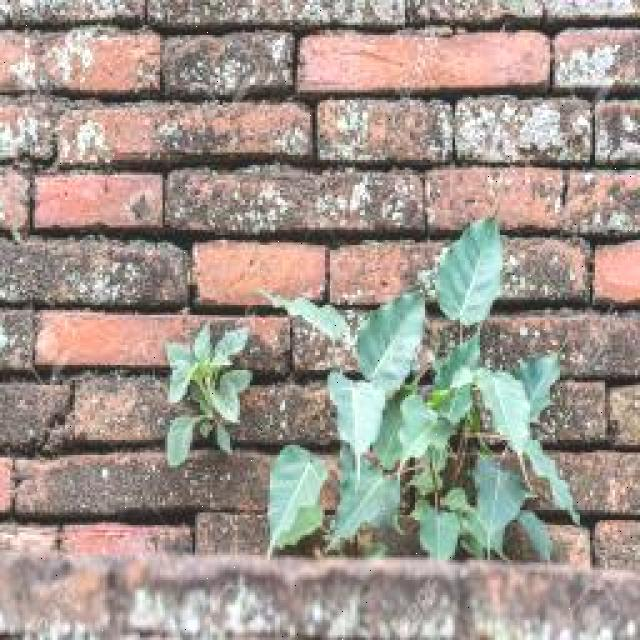crack: (1, 0, 635, 608), (27, 379, 84, 453), (18, 135, 59, 176), (557, 163, 571, 225), (323, 239, 333, 303)
dampness: (8, 98, 637, 180), (1, 24, 312, 101), (2, 375, 211, 450)
vegetation: (163, 326, 255, 465), (7, 286, 71, 396), (2, 169, 31, 246)
